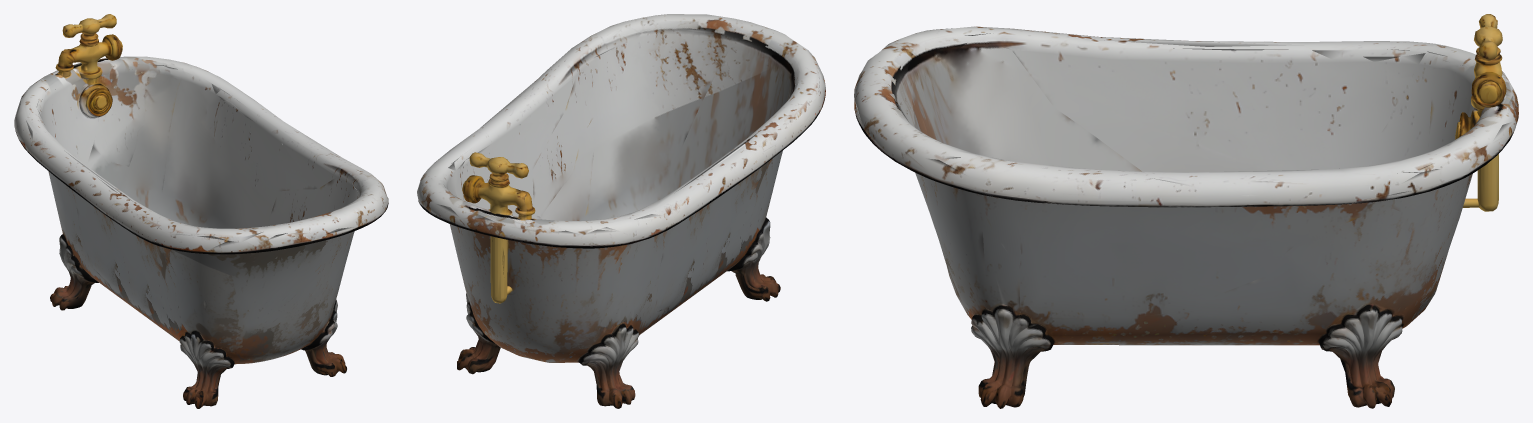
The model's file is lhi_iron_bathtub.glb.
3 renders of one model, left to right at view 1: azimuth 30°, elevation 25°; view 2: azimuth 150°, elevation 25°; view 3: azimuth 270°, elevation 25°, orthographic. The views are drawn at different scales.
Parts seen in each view (by area): view 1: material; view 2: material; view 3: material.
Part boxes in pixels (x1=…): material: x1=14, y1=14, x2=388, y2=408; material: x1=417, y1=14, x2=825, y2=408; material: x1=854, y1=14, x2=1518, y2=408.
Bounding box in the file's own units: 0.6052 × 0.6057 × 1.11.
1 material, 1 textured.
